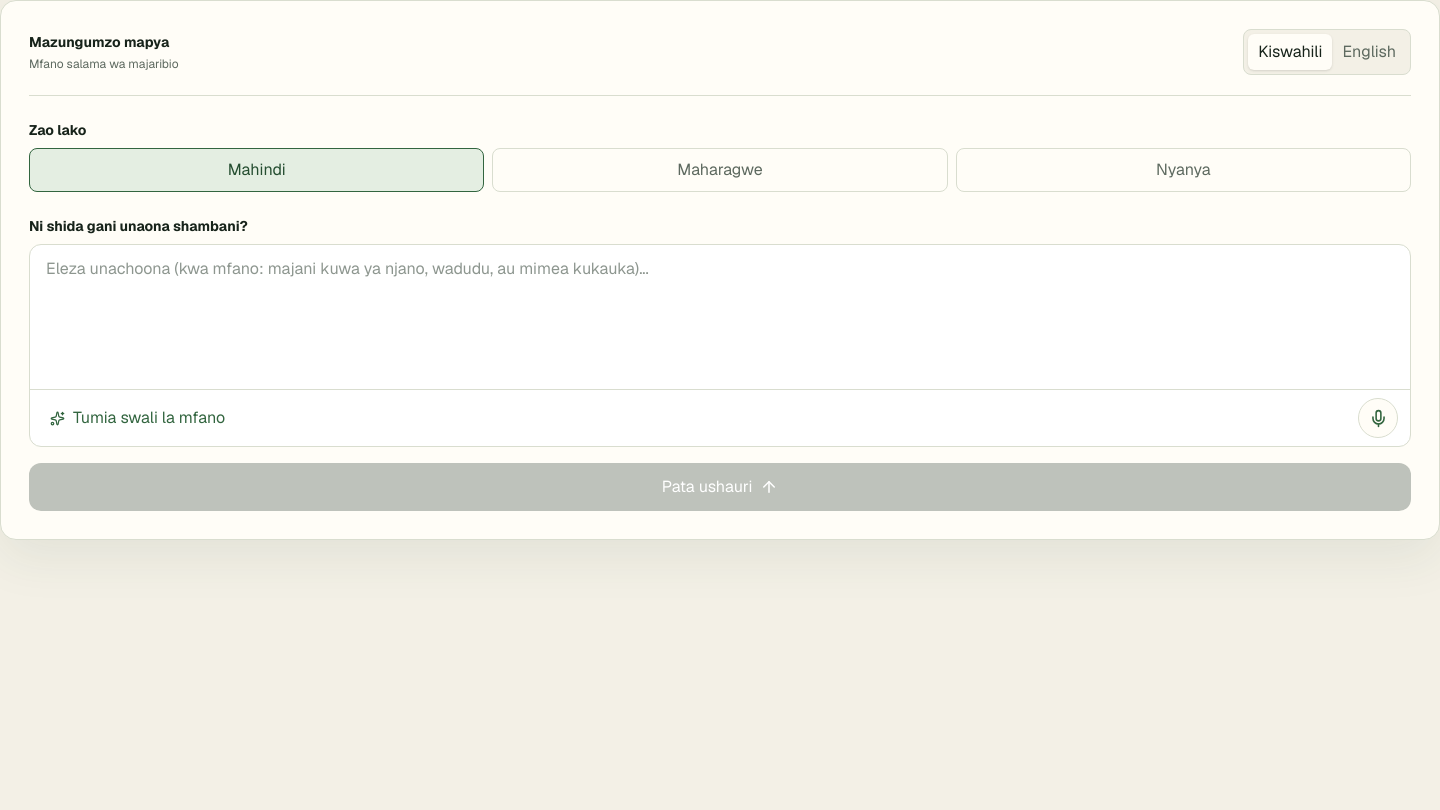
Scenario: FarmerAssistant › keeps the question available when the API fails
This screenshot has width=1440, height=810.
In the text box: [720, 317] box [30,245,1410,389], type "Majani yana madoa ya kahawia"
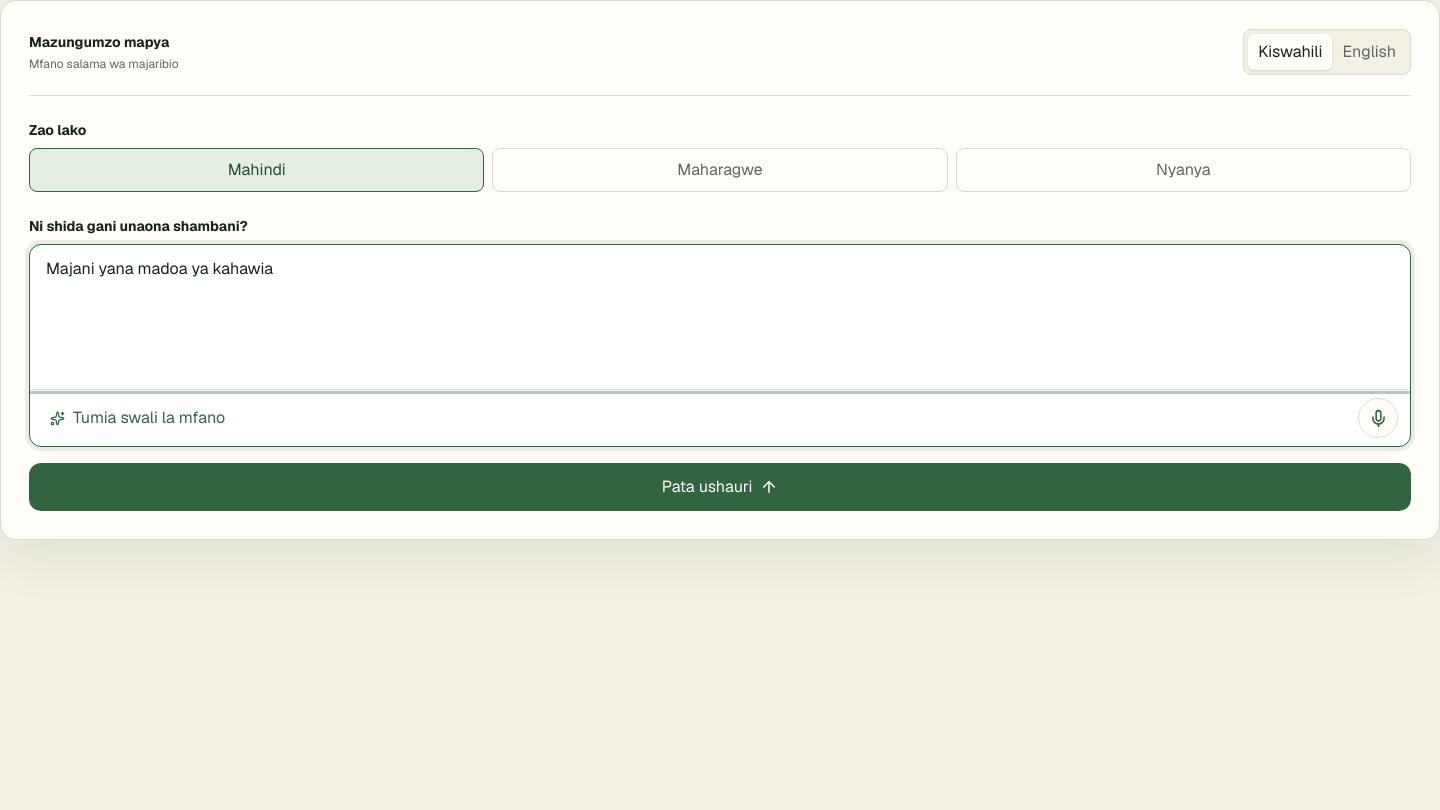
Click the button "Pata ushauri": [720, 487] box [29,463,1411,511]
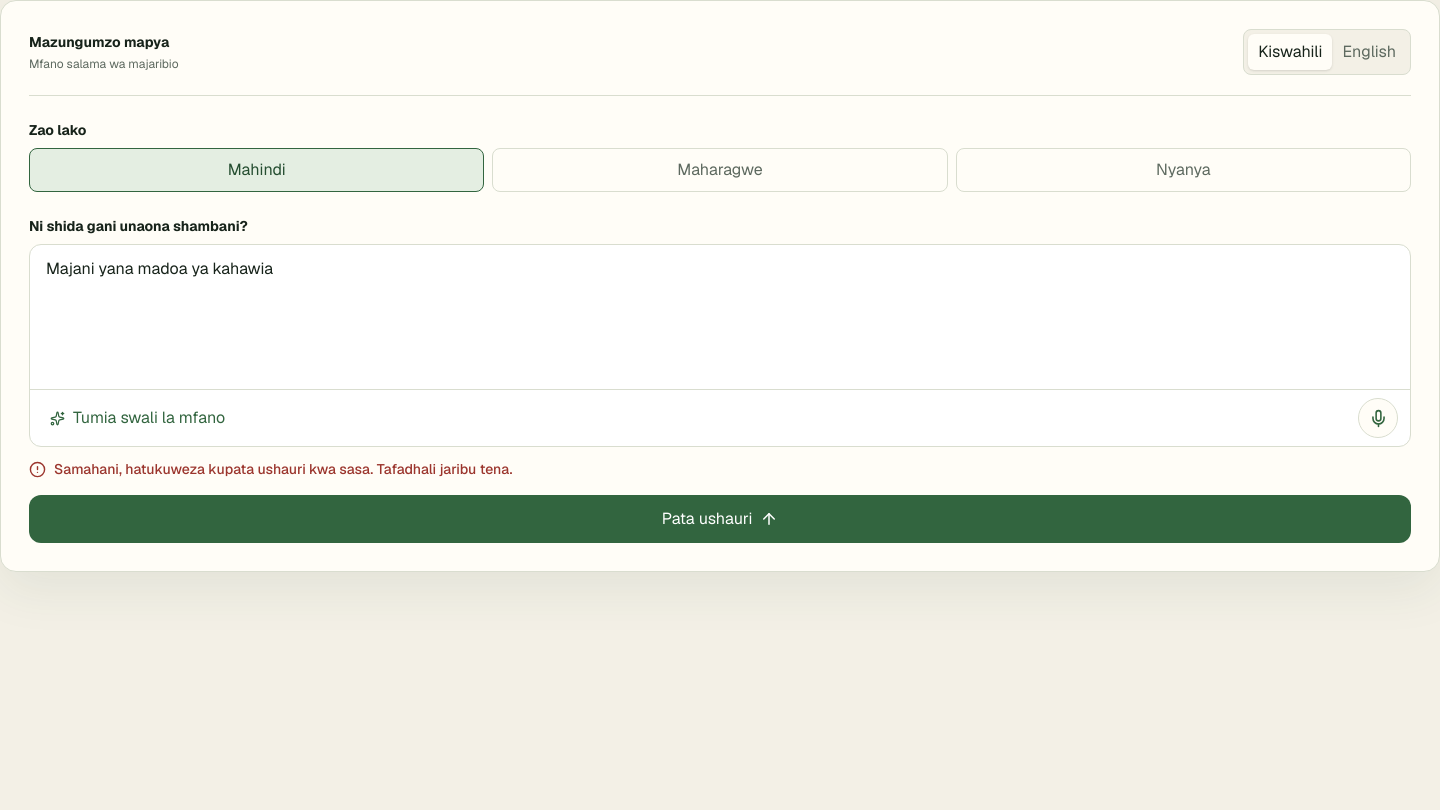
expect the message "Samahani, hatukuweza kupata ushauri kwa sasa. Tafadhali jaribu tena." is shown: met, box [29,460,512,478]
